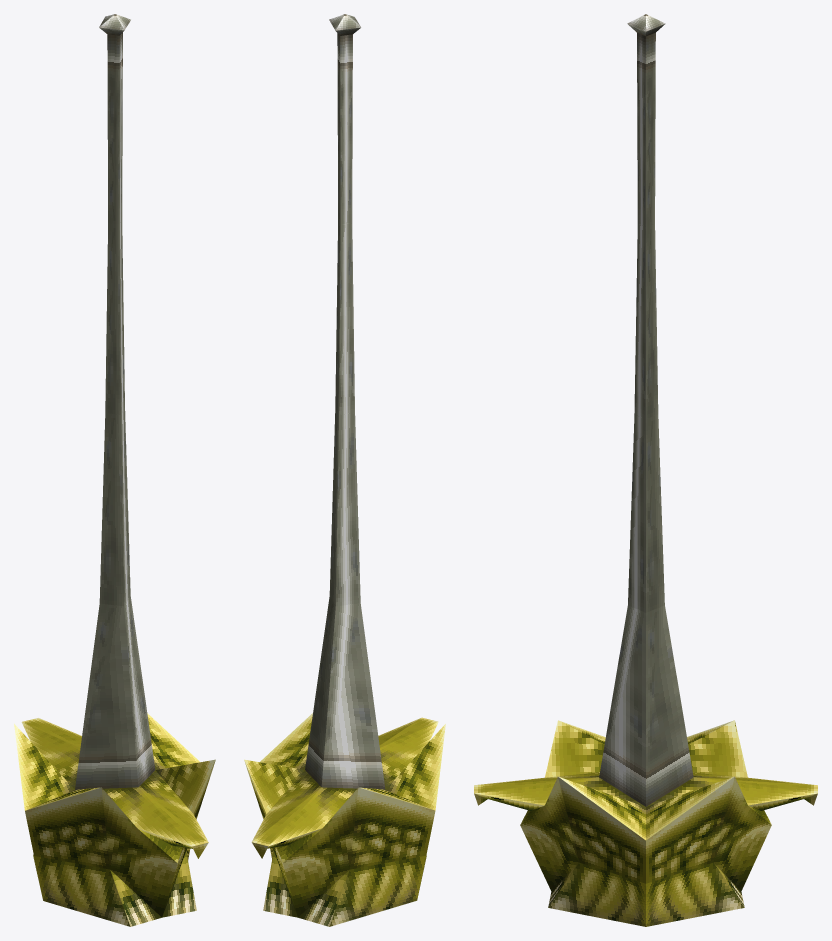
3 renders of one model, left to right at view 1: azimuth 30°, elevation 25°; view 2: azimuth 150°, elevation 25°; view 3: azimuth 270°, elevation 25°, orthographic.
Visible parts, largest first — view 1: nprim135-Cylinder02.001; view 2: nprim135-Cylinder02.001; view 3: nprim135-Cylinder02.001.
Boxes of the visible parts, left/top/right/bottom form: nprim135-Cylinder02.001: left=14, top=14, right=215, bottom=926; nprim135-Cylinder02.001: left=244, top=14, right=445, bottom=926; nprim135-Cylinder02.001: left=474, top=14, right=817, bottom=926.
Bounding box in the file's own units: 256 × 1177 × 418.
Materials: 2 (2 with a texture image).
